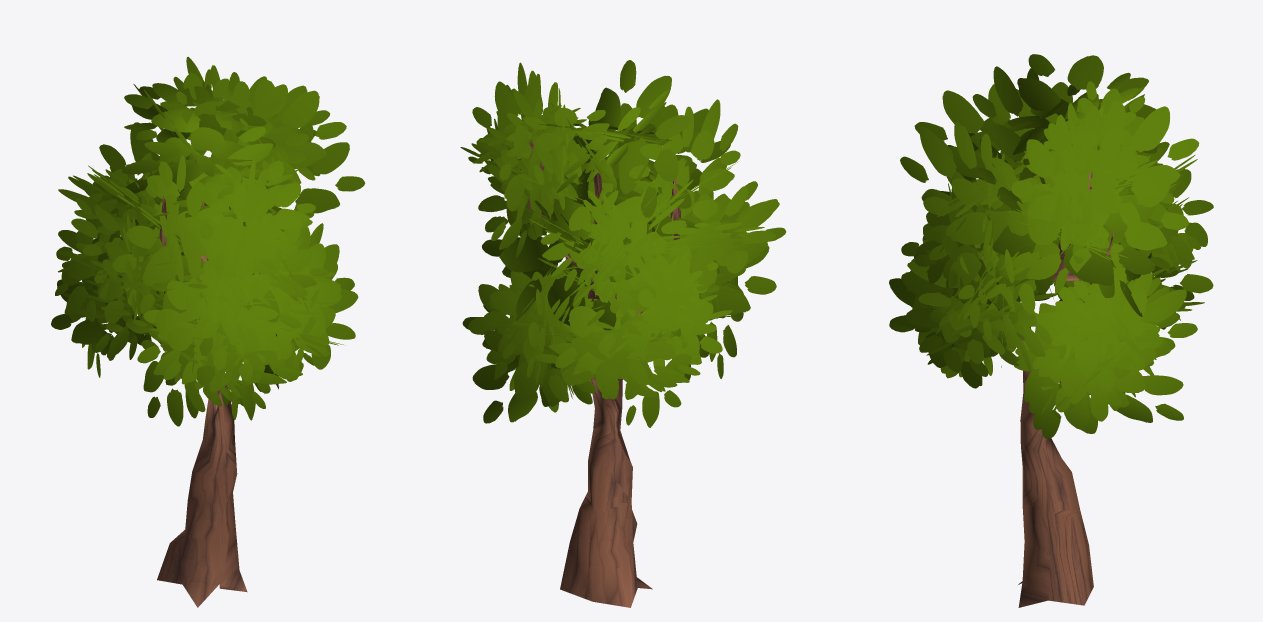
Rendered from CommonTree_1_L.gltf.
3 renders of one model, left to right at view 1: azimuth 30°, elevation 25°; view 2: azimuth 150°, elevation 25°; view 3: azimuth 270°, elevation 25°, orthographic. The views are drawn at different scales.
Visible parts, largest first — view 1: CommonTree_1_L; view 2: CommonTree_1_L; view 3: CommonTree_1_L.
Part boxes in pixels (left/top/right/bottom): CommonTree_1_L: left=51, top=57, right=365, bottom=607; CommonTree_1_L: left=460, top=60, right=786, bottom=607; CommonTree_1_L: left=889, top=54, right=1213, bottom=607.
Bounding box in the file's own units: 5.03 × 7.76 × 4.94.
2 materials, 2 textured.
